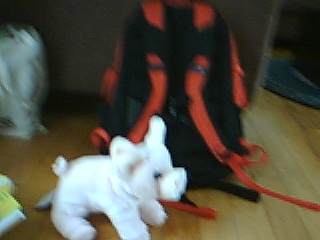piggy: (49, 114, 189, 240)
